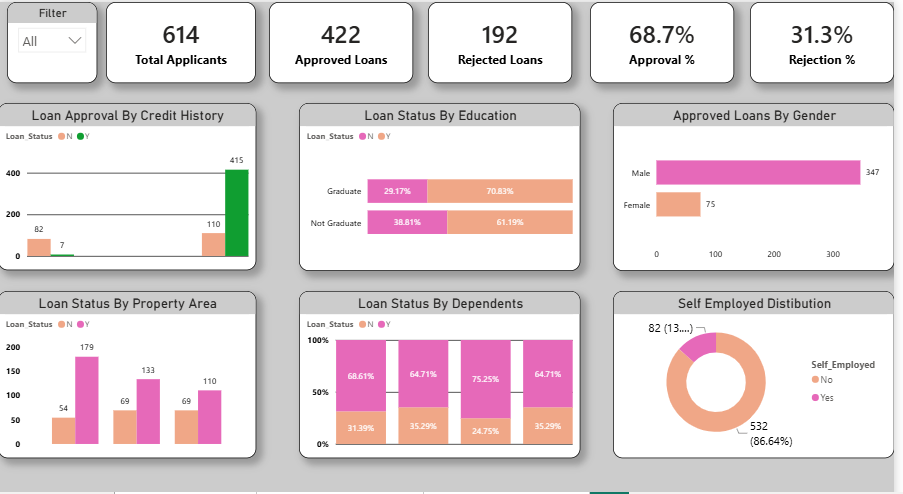

The dashboard page shown, as its layout file describes it:
{"tool":"powerbi","page":{"name":"Loan Approval Analysis","canvas":[1280,720],"ordinal":1},"visuals":[{"type":"slicer","title":"Filter","fields":{"Values":["Loan_cleaned.Education","Loan_cleaned.Property_Area","Loan_cleaned.Gender","Loan_cleaned.Self_Employed"]},"box":[12.9,0,128.6,115.7],"z":0},{"type":"cardVisual","fields":{"Data":["Measures (2).Total Applicants"]},"box":[154.3,0,214.3,115.7],"z":1000},{"type":"cardVisual","fields":{"Data":["Measures (2).Approved Loans"]},"box":[387.8,0,206.3,115.6],"z":2000},{"type":"cardVisual","fields":{"Data":["Measures (2).Rejected Loans"]},"box":[614.6,0,206.3,115.6],"z":3000},{"type":"cardVisual","fields":{"Data":["Measures (2).Approval %"]},"box":[845.9,0,206.3,115.6],"z":4000},{"type":"cardVisual","fields":{"Data":["Measures (2).Rejection %"]},"box":[1074.1,0,206.3,115.6],"z":5000},{"type":"clusteredColumnChart","title":"Loan Approval By Credit History","fields":{"Category":["Loan_cleaned.Credit_History"],"Y":["Measures (2).Total Applicants"],"Series":["Loan_cleaned.Loan_Status"]},"box":[0,144.9,368.8,238.5],"z":6000},{"type":"hundredPercentStackedBarChart","title":"Loan Status By Education","fields":{"Category":["Loan_cleaned.Education"],"Series":["Loan_cleaned.Loan_Status"],"Y":["Measures (2).Total Applicants"]},"box":[430.2,144.9,402.4,240],"z":7000},{"type":"clusteredBarChart","title":"Approved Loans By Gender","fields":{"Category":["Loan_cleaned.Gender"],"Y":["Measures (2).Approved Loans"]},"box":[878,144.9,402.4,240],"z":8000},{"type":"clusteredColumnChart","title":"Loan Status By Property Area","fields":{"Y":["Measures (2).Total Applicants"],"Series":["Loan_cleaned.Loan_Status"],"Category":["Loan_cleaned.Property_Area"]},"box":[0,412.7,368.8,238.5],"z":9000},{"type":"hundredPercentStackedColumnChart","title":"Loan Status By Dependents","fields":{"Y":["Measures (2).Total Applicants"],"Series":["Loan_cleaned.Loan_Status"],"Category":["Loan_cleaned.Dependents"]},"box":[430.2,412.7,402.4,238.5],"z":10000},{"type":"donutChart","title":"Self Employed Distibution","fields":{"Y":["Measures (2).Total Applicants"],"Category":["Loan_cleaned.Self_Employed"]},"box":[878,412.7,402.4,238.5],"z":11000}]}

Visuals, with their boxes in screenshot pixels (x1, y1, x2, y2), scaled from the page's 1280x720 canvas onto the 903x494 screenshot:
"Filter" slicer: left=9, top=0, right=100, bottom=79
cardVisual - Measures (2).Total Applicants: left=109, top=0, right=260, bottom=79
cardVisual - Measures (2).Approved Loans: left=274, top=0, right=419, bottom=79
cardVisual - Measures (2).Rejected Loans: left=434, top=0, right=579, bottom=79
cardVisual - Measures (2).Approval %: left=597, top=0, right=742, bottom=79
cardVisual - Measures (2).Rejection %: left=758, top=0, right=902, bottom=79
"Loan Approval By Credit History" clusteredColumnChart: left=0, top=99, right=260, bottom=263
"Loan Status By Education" hundredPercentStackedBarChart: left=303, top=99, right=587, bottom=264
"Approved Loans By Gender" clusteredBarChart: left=619, top=99, right=902, bottom=264
"Loan Status By Property Area" clusteredColumnChart: left=0, top=283, right=260, bottom=447
"Loan Status By Dependents" hundredPercentStackedColumnChart: left=303, top=283, right=587, bottom=447
"Self Employed Distibution" donutChart: left=619, top=283, right=902, bottom=447
